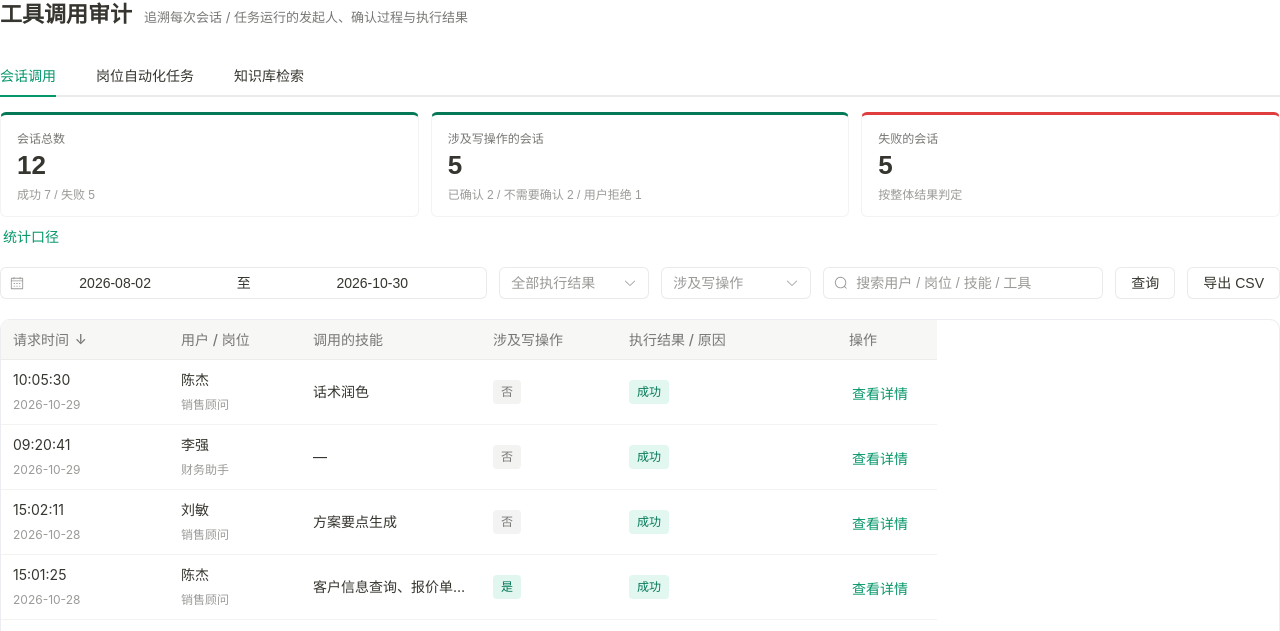
Test: 文案与颜色逐字对 md（#92 ②⑦⑧⑨④） › 知识库详情：失败但请求已发出（耗时有值，K-3006）拼「检索耗时 X / 原因」（§9.5）
The image size is (1280, 631).
Click the tab "知识库检索" at (269, 76), box [234,67,304,84]
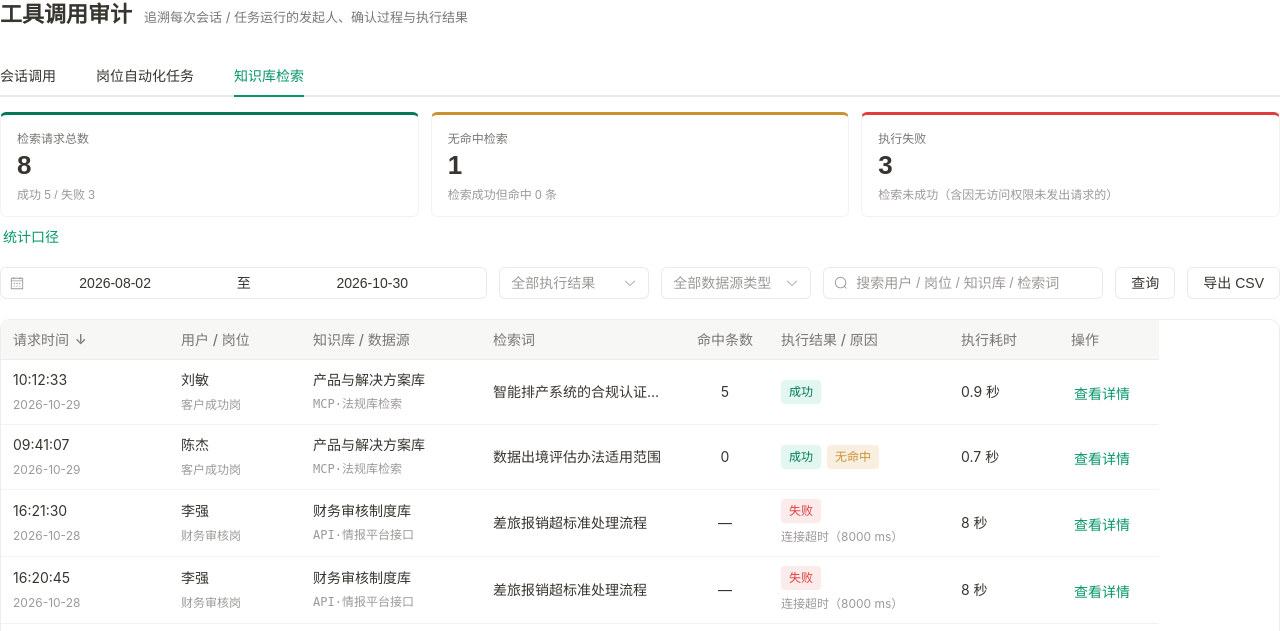
Type "K-3006" into the field with placeholder "搜索用户 / 岗位 / 知识库 / 检索词" at (974, 283), box [856,268,1092,298]
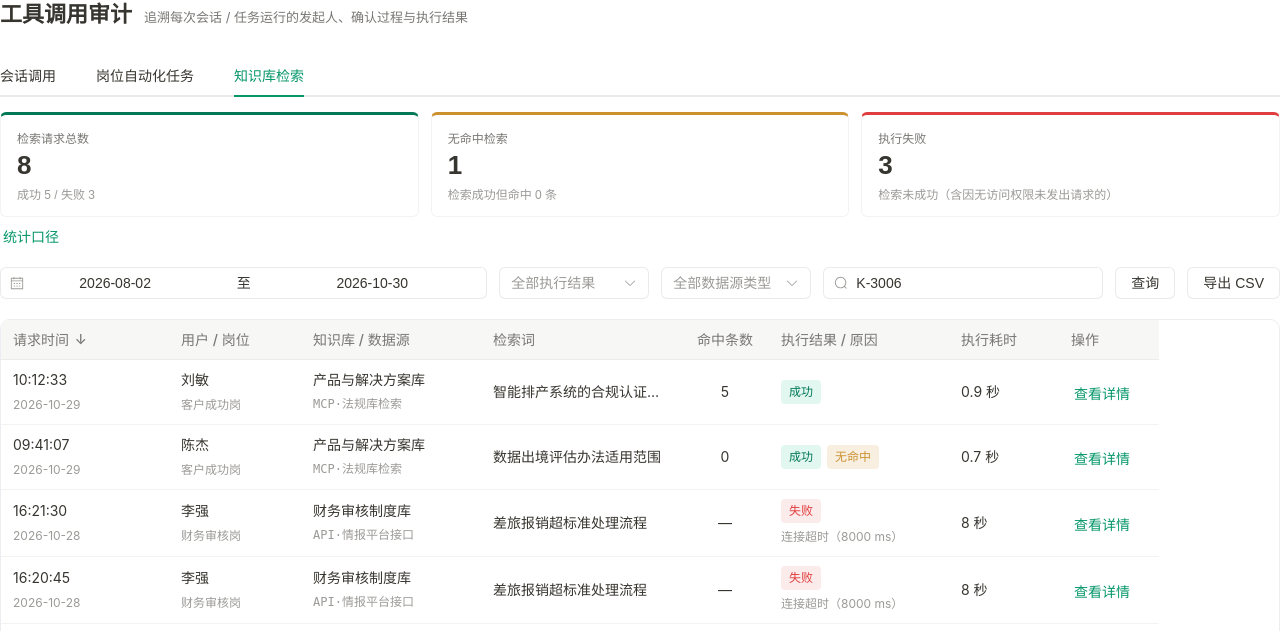
Press Enter in the field, box [856,268,1092,298]
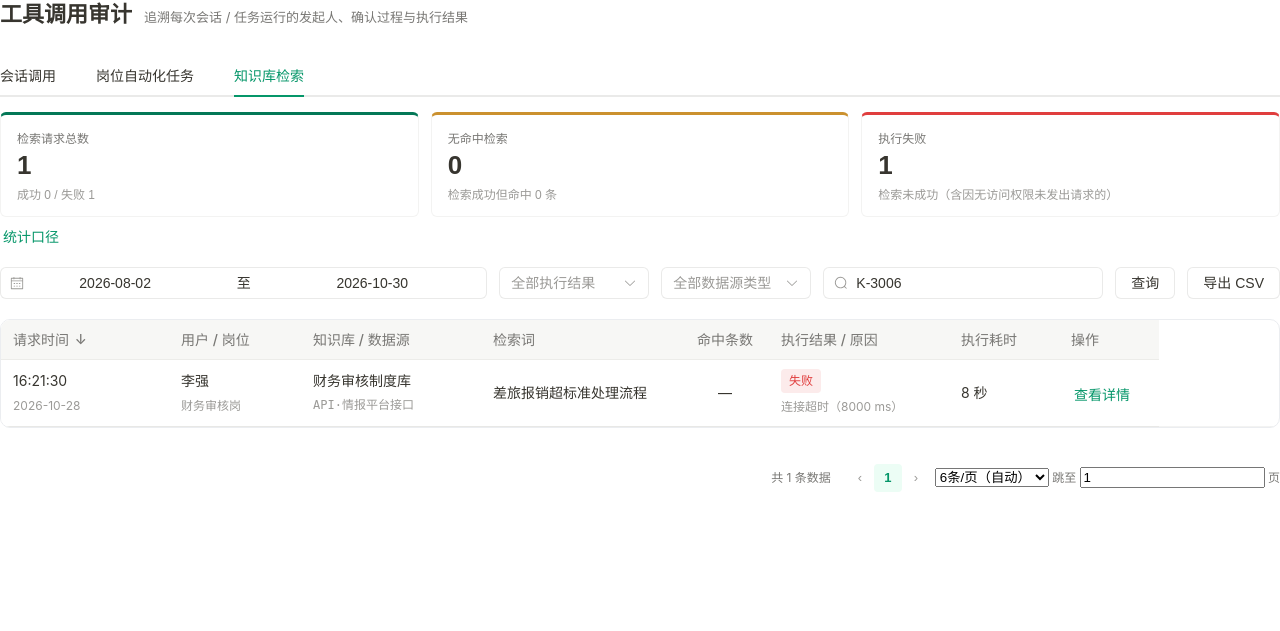
Click the button "查看详情" at (1102, 395), box [1071,385,1133,405]
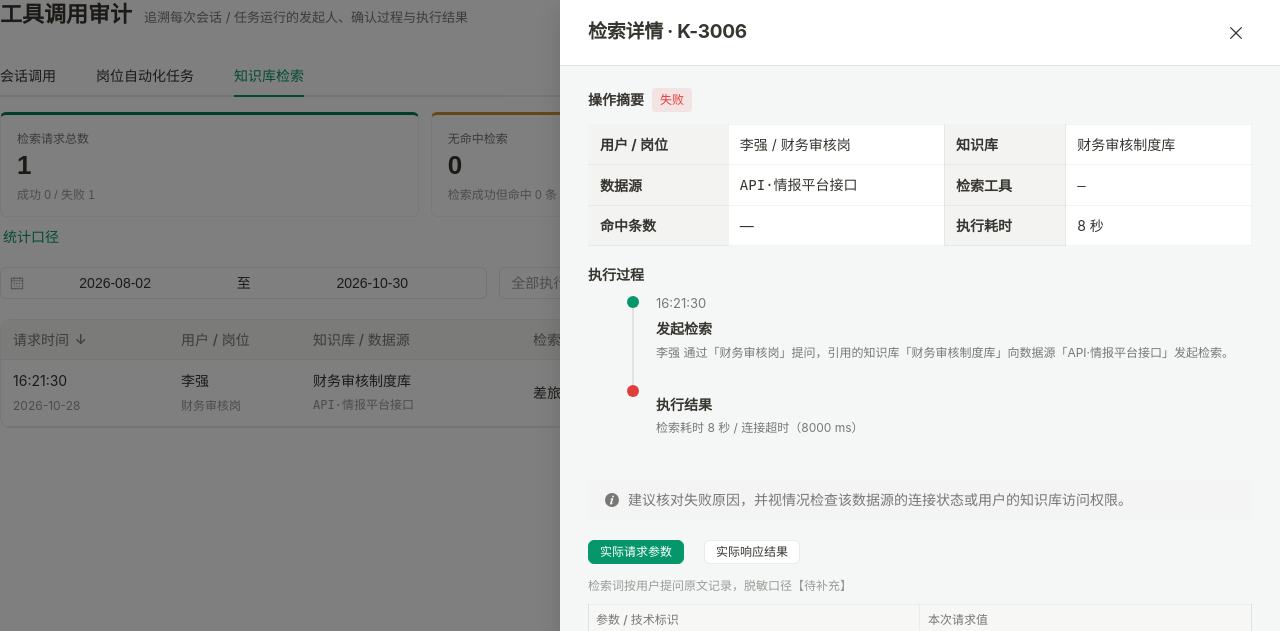
Now the element that starts with "操作摘要" shows "检索耗时 8 秒 / 连接超时（8000 ms）", box [656,420,864,435]
